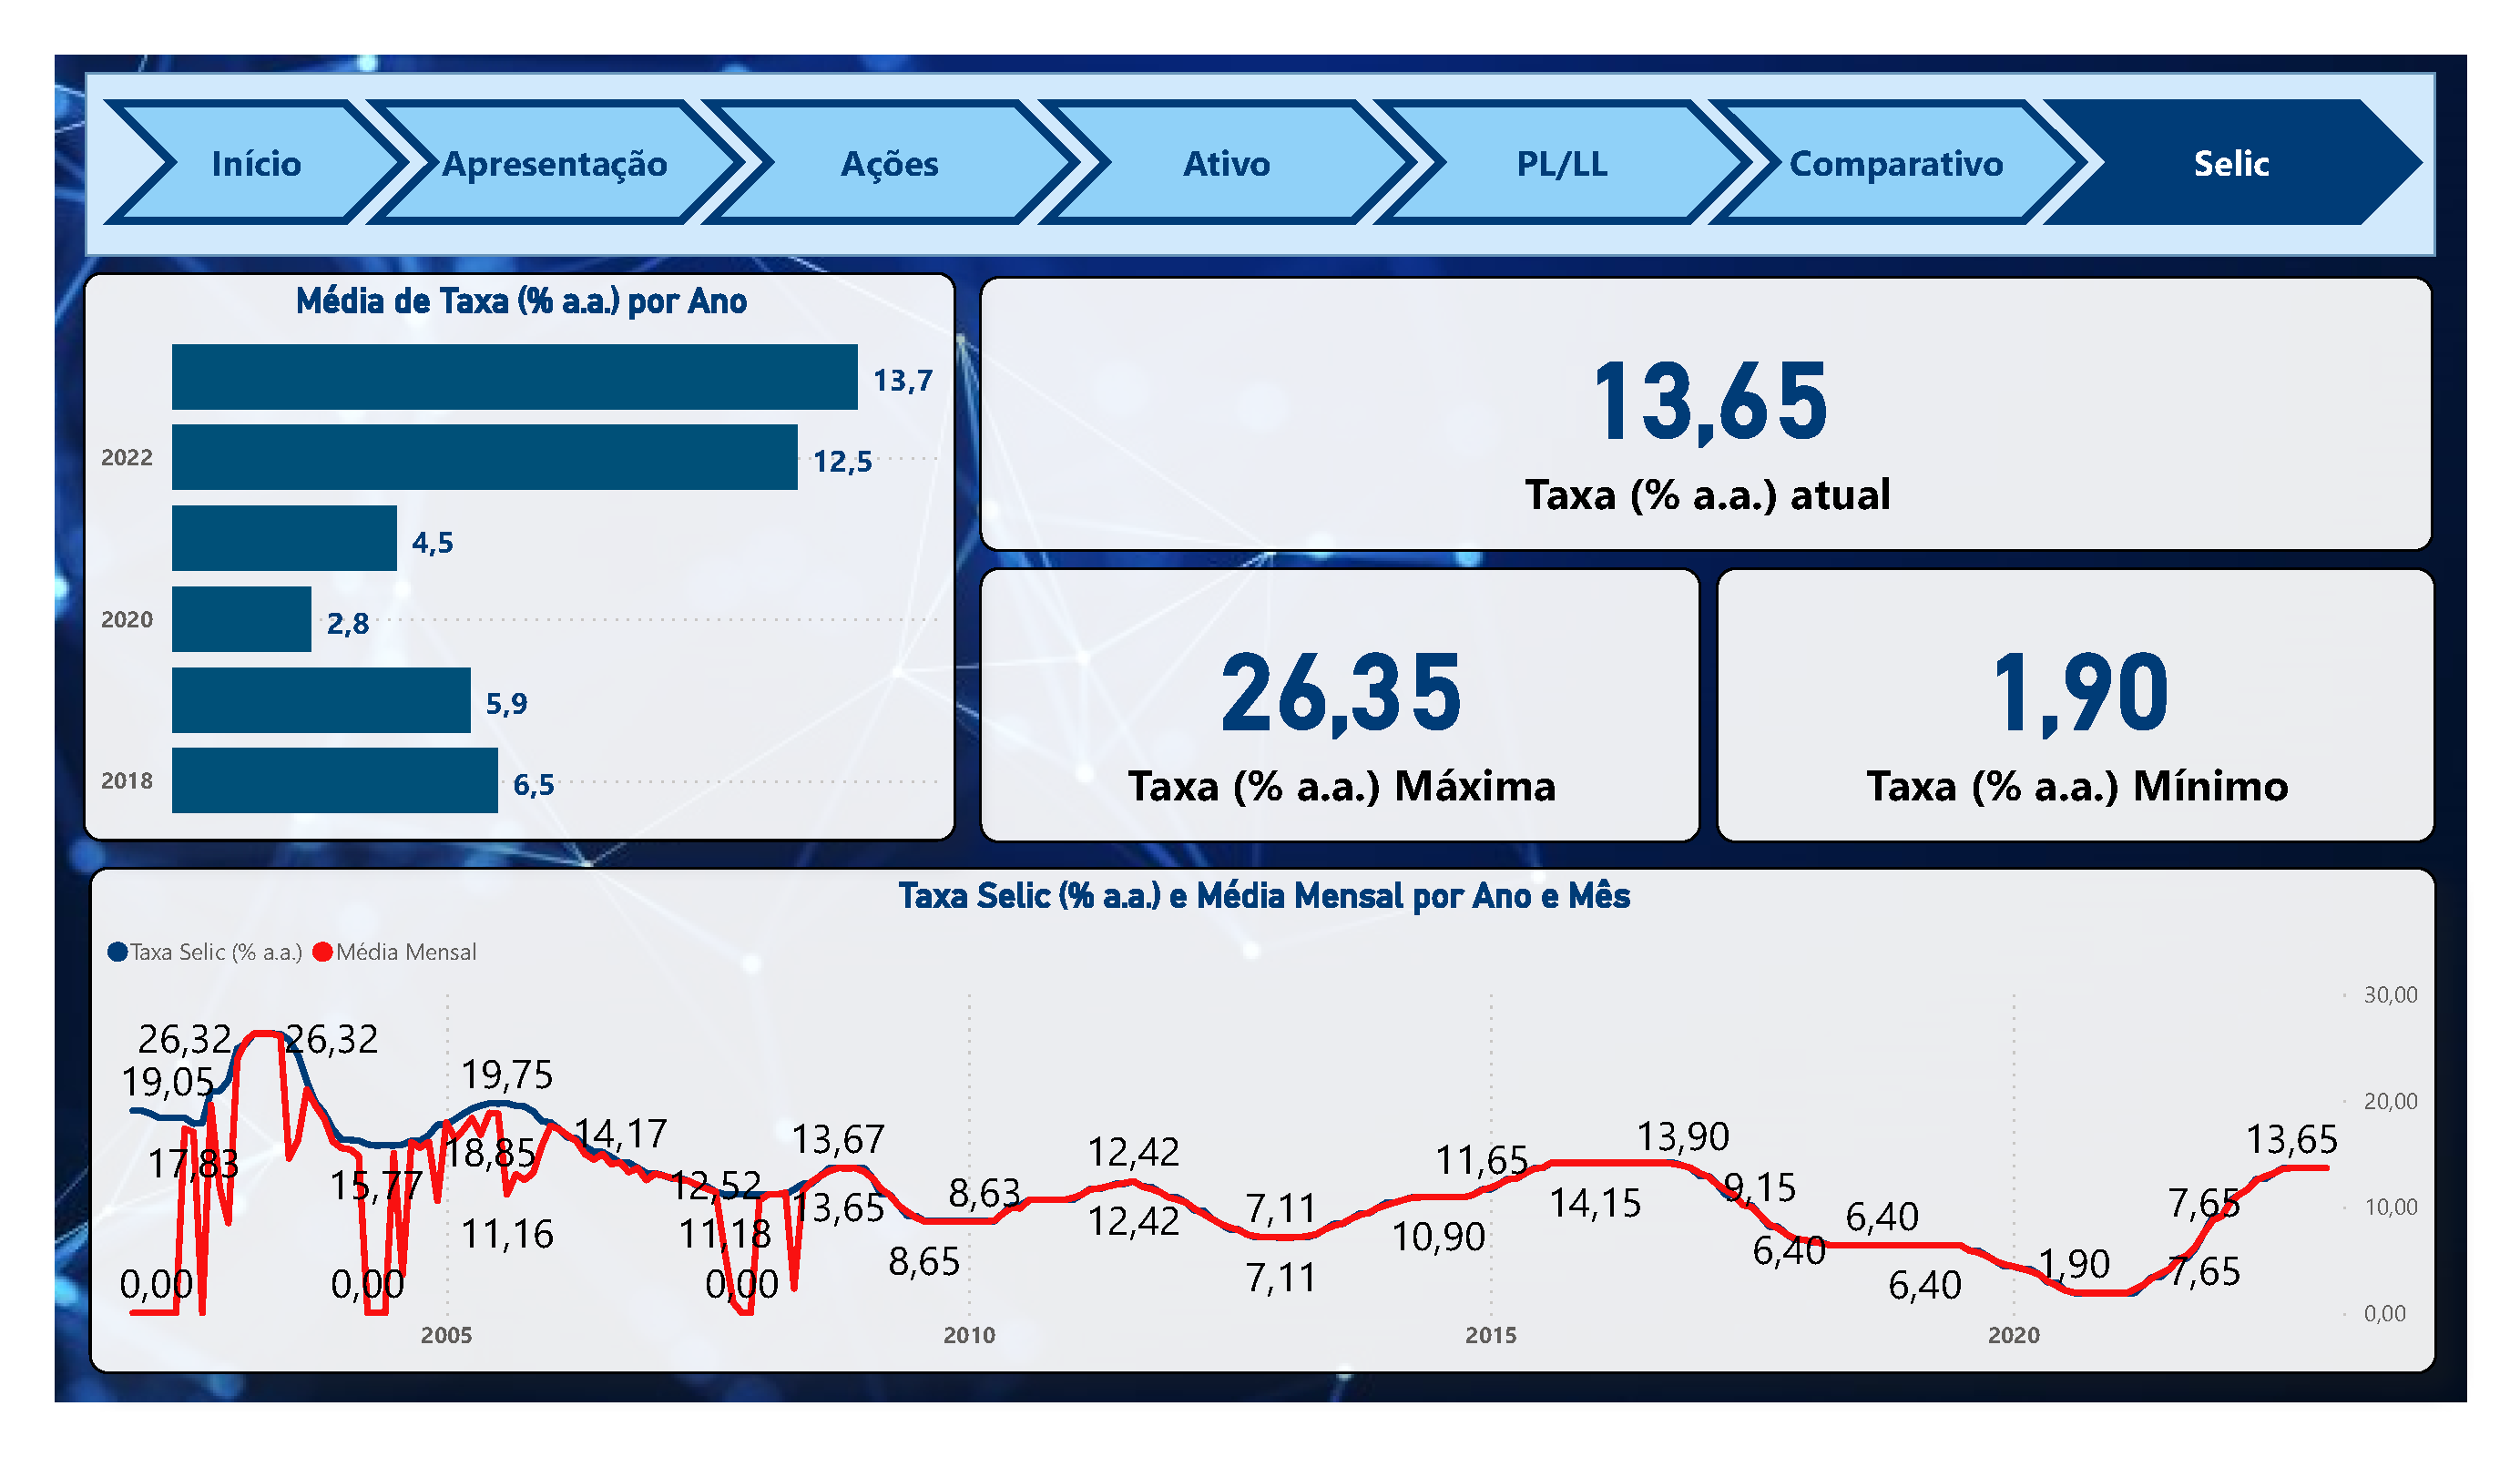

The page's visual inventory and layout, read from the dashboard file:
{"tool":"powerbi","page":{"name":"Selic","canvas":[1280,720],"ordinal":6},"visuals":[{"type":"image","box":[0,0,1280.7,720.5],"z":0},{"type":"lineChart","fields":{"Category":["selic tudo.Data.Variation.Hierarquia de datas.Ano","selic tudo.Data.Variation.Hierarquia de datas.Mês"],"Y":["Median(selic tudo.Taxa (% a.a.))"],"Y2":["Avg(selic tudo.Média)"]},"box":[22.6,433.2,1236.8,267.1],"z":1000},{"type":"card","fields":{"Values":["Max(selic tudo.Taxa (% a.a.))"]},"box":[492.6,122.3,765.6,144.8],"z":2000},{"type":"card","fields":{"Values":["Max(selic tudo.Taxa (% a.a.))"]},"box":[492.6,275.4,379.8,144.8],"z":3000},{"type":"card","fields":{"Values":["Min(selic tudo.Taxa (% a.a.))"]},"box":[880.7,275.4,378.6,144.8],"z":4000},{"type":"shape","box":[20.6,13.7,1239.1,97.4],"z":5000},{"type":"shape","box":[30.9,29,161.4,66.2],"z":6000},{"type":"shape","box":[169.1,29,200,66.2],"z":7000},{"type":"shape","box":[345.9,29,200,66.2],"z":8000},{"type":"shape","box":[522.8,29,200,66.2],"z":9000},{"type":"shape","box":[699.6,29,200,66.2],"z":10000},{"type":"shape","box":[876.4,29,200,66.2],"z":11000},{"type":"shape","box":[1053.2,29,200,66.2],"z":12000},{"type":"clusteredBarChart","fields":{"Y":["Avg(selic tudo.Taxa (% a.a.))"],"Category":["selic tudo.Data.Variation.Hierarquia de datas.Ano"]},"box":[19.4,119.9,460.3,299.8],"z":13000}]}

Visuals, with their boxes in screenshot pixels (x1, y1, x2, y2):
image: rect(72, 46, 2471, 1395)
lineChart - selic tudo.Data.Variation.Hierarquia de datas.Ano x selic tudo.Data.Variation.Hierarquia de datas.Mês: rect(115, 857, 2431, 1357)
card - Max(selic tudo.Taxa (% a.a.)): rect(995, 275, 2428, 546)
card - Max(selic tudo.Taxa (% a.a.)): rect(995, 562, 1706, 832)
card - Min(selic tudo.Taxa (% a.a.)): rect(1721, 562, 2431, 832)
shape: rect(111, 72, 2432, 254)
shape: rect(130, 100, 433, 224)
shape: rect(389, 100, 763, 224)
shape: rect(720, 100, 1095, 224)
shape: rect(1051, 100, 1426, 224)
shape: rect(1382, 100, 1757, 224)
shape: rect(1713, 100, 2088, 224)
shape: rect(2045, 100, 2419, 224)
clusteredBarChart - Avg(selic tudo.Taxa (% a.a.)) x selic tudo.Data.Variation.Hierarquia de datas.Ano: rect(108, 270, 971, 831)
